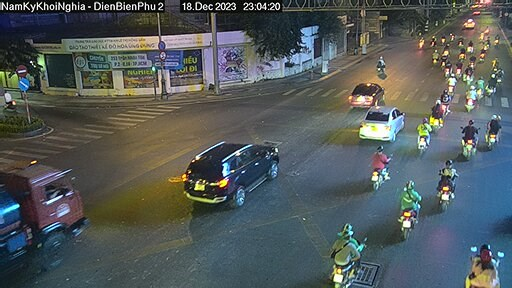car: (183, 139, 282, 206), (359, 104, 408, 147), (348, 80, 381, 109)
motorbike: (325, 229, 363, 285), (396, 186, 424, 235), (435, 161, 460, 207), (369, 147, 395, 191), (457, 121, 481, 158), (487, 113, 502, 150), (430, 100, 447, 132), (415, 124, 435, 151), (373, 52, 391, 77), (461, 87, 478, 112), (443, 74, 459, 97)
